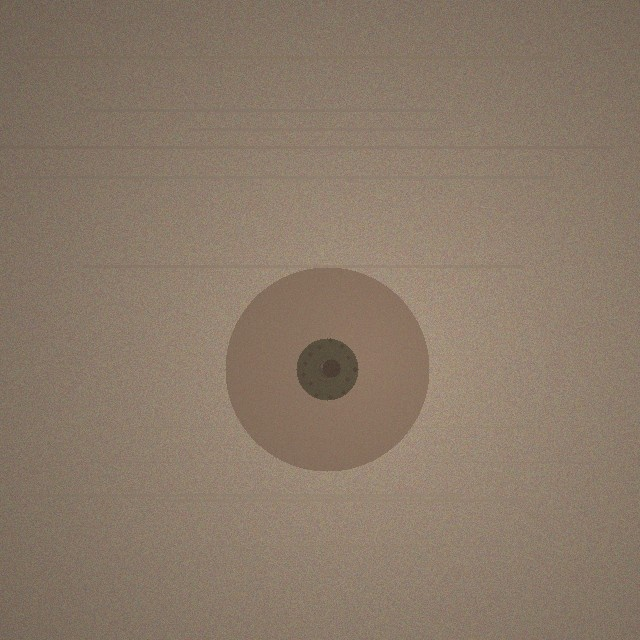cold_weld: (225, 267, 429, 471)
